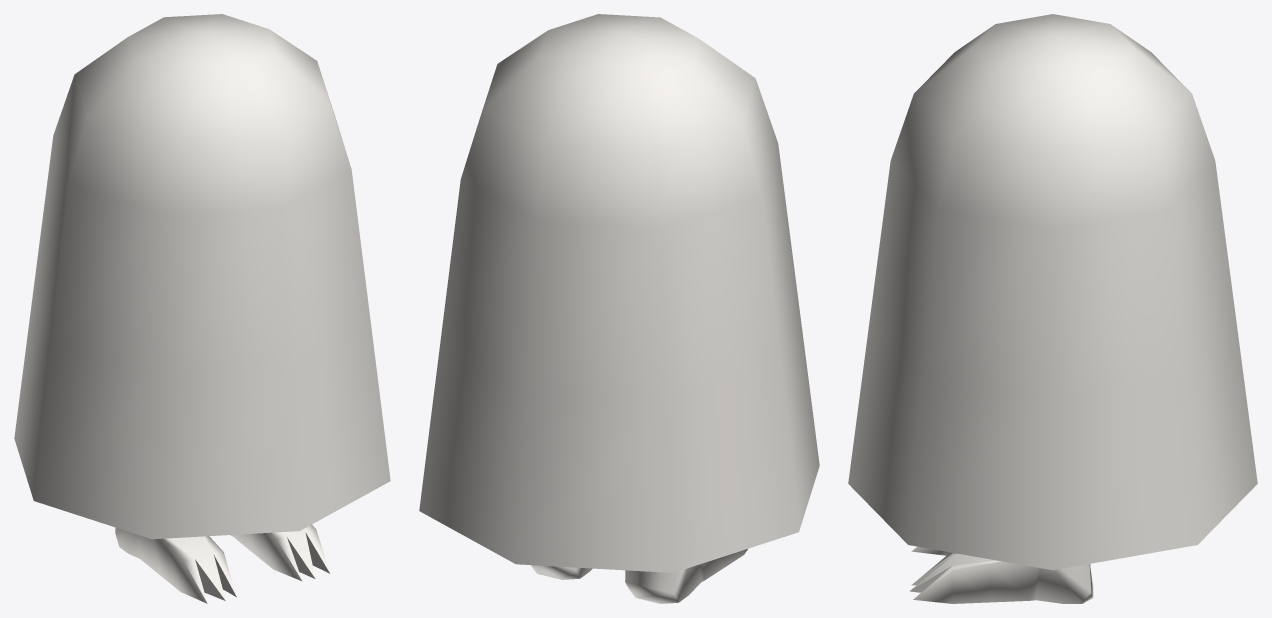
The model's file is ChMD_kato.fbx.
3 renders of one model, left to right at view 1: azimuth 30°, elevation 25°; view 2: azimuth 150°, elevation 25°; view 3: azimuth 270°, elevation 25°, orthographic. The views are drawn at different scales.
Parts seen in each view (by area): view 1: pCube3; view 2: pCube3; view 3: pCube3.
Part boxes in pixels (<box>): pCube3: <box>14,14,390,603</box>; pCube3: <box>419,14,819,603</box>; pCube3: <box>848,14,1257,603</box>.
Bounding box in the file's own units: 52.4 × 75.24 × 52.4.
